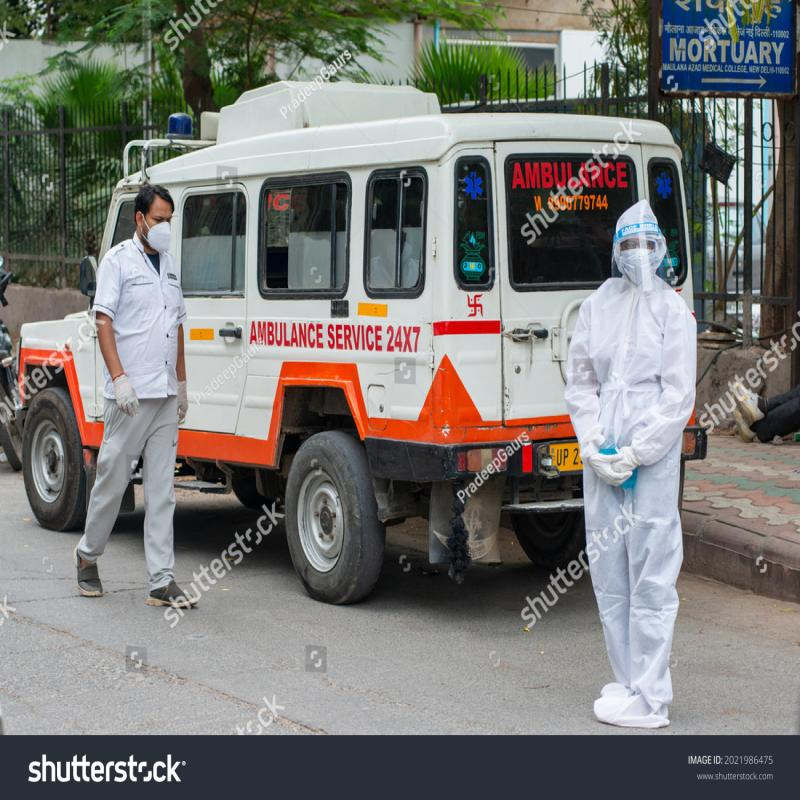ambulance: (6, 52, 752, 615)
